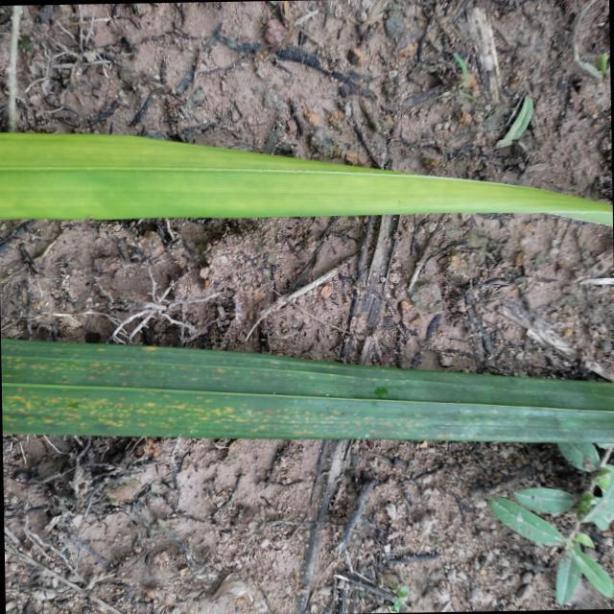nitrogen: (0, 339, 614, 448), (0, 123, 614, 224)
